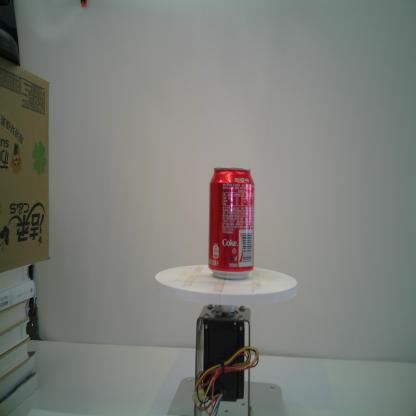Drink: (207, 165, 257, 283)
